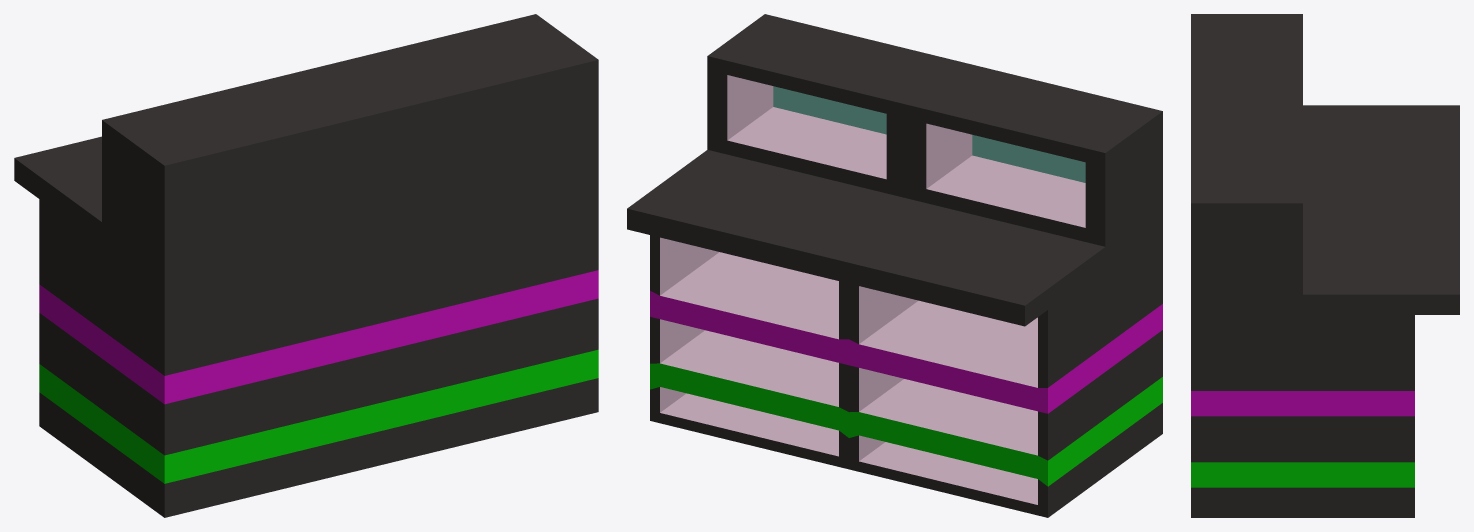
Rendered from Counter Straight.fbx.
3 renders of one model, left to right at view 1: azimuth 30°, elevation 25°; view 2: azimuth 150°, elevation 25°; view 3: azimuth 270°, elevation 25°, orthographic. The views are drawn at different scales.
Parts seen in each view (by area): view 1: Counter Straight; view 2: Counter Straight; view 3: Counter Straight.
Boxes of the visible parts, x1,y1,x2,y2 form: Counter Straight: (14,14,598,517); Counter Straight: (627,14,1162,517); Counter Straight: (1191,14,1459,517).
Bounding box in the file's own units: 2000 × 1550 × 1200.
